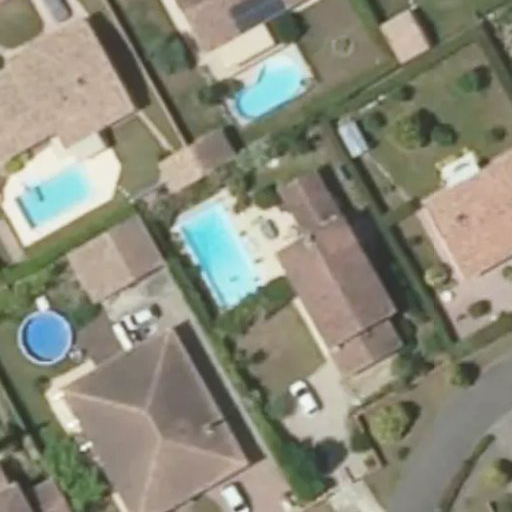pool: (212, 212, 299, 271)
